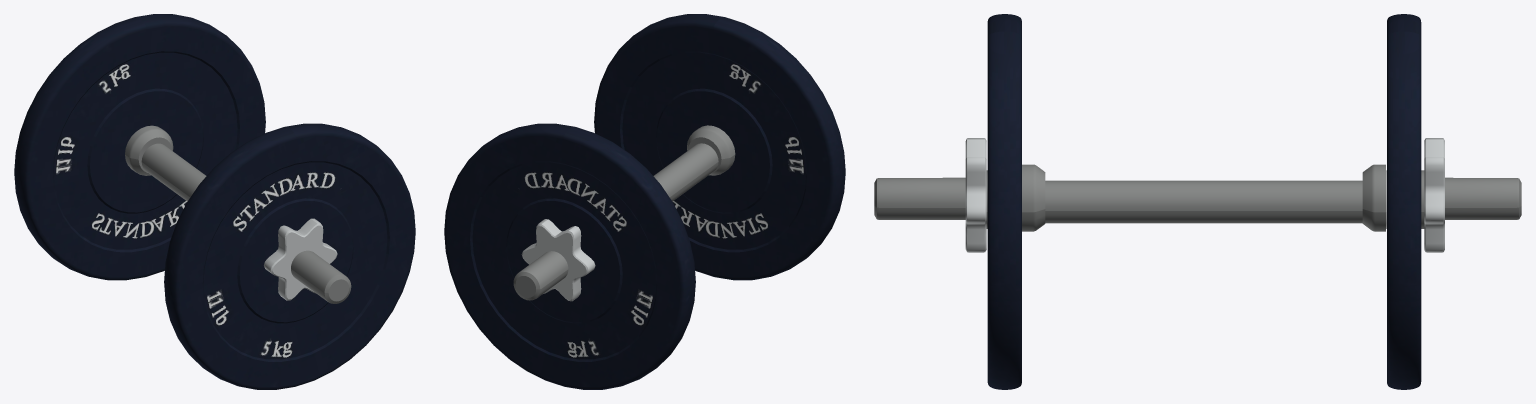
Rendered from gym-dumbbell.glb.
The picture shows the model from 3 angles, left to right: view 1: azimuth 30°, elevation 25°; view 2: azimuth 150°, elevation 25°; view 3: azimuth 270°, elevation 25°; orthographic projection. The views are drawn at different scales.
Visible parts, largest first — view 1: Weight, dumbell, Object001; view 2: Weight, dumbell, Object001; view 3: Weight, dumbell, Object001.
Boxes of the visible parts, x1,y1,x2,y2 form: Weight: (14, 14, 415, 389); dumbell: (125, 125, 351, 303); Object001: (264, 218, 337, 300); Weight: (444, 14, 845, 389); dumbell: (513, 125, 735, 300); Object001: (521, 219, 595, 301); Weight: (987, 14, 1421, 389); dumbell: (874, 164, 1521, 231); Object001: (965, 138, 1444, 252).
Size of the model in its own units: 1.16 by 1.16 by 2.
3 materials, 1 textured.
